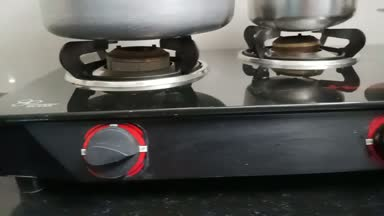flame_gas_off: (49, 34, 213, 192)
